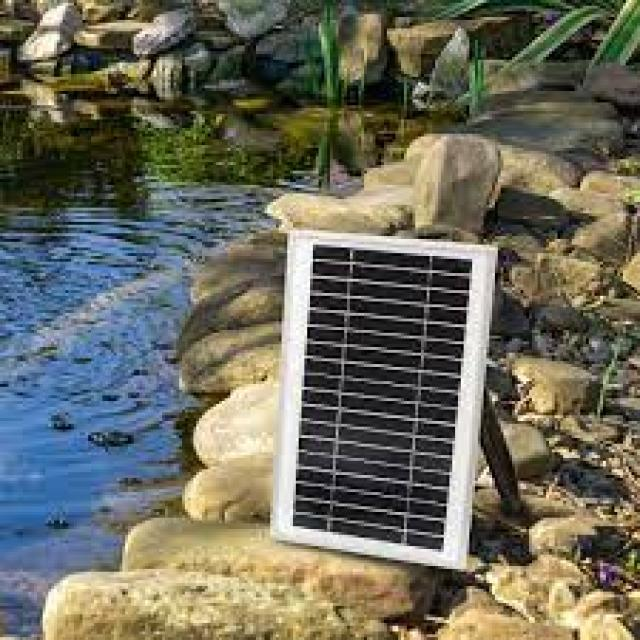no faulty: (304, 242, 472, 567)
